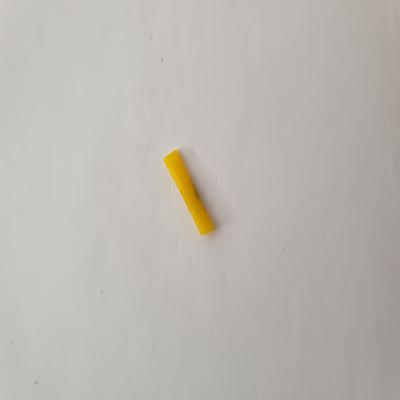plastic: (159, 140, 224, 240)
